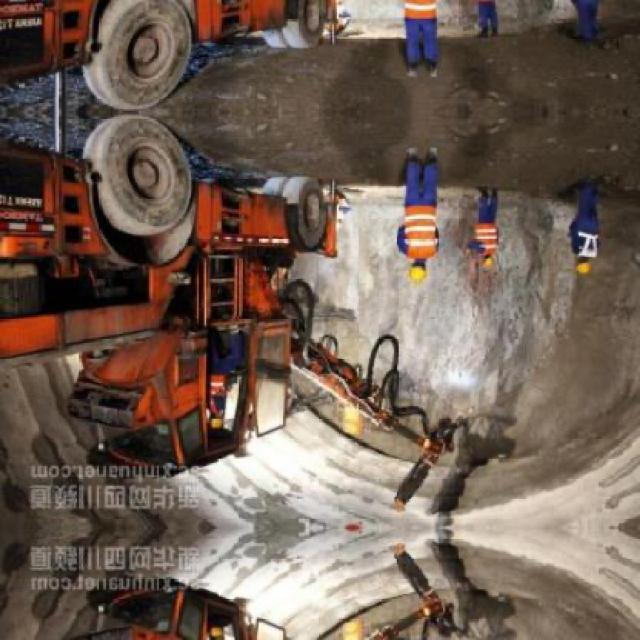con casco: (566, 222, 612, 290), (392, 253, 451, 289), (466, 238, 510, 284)
